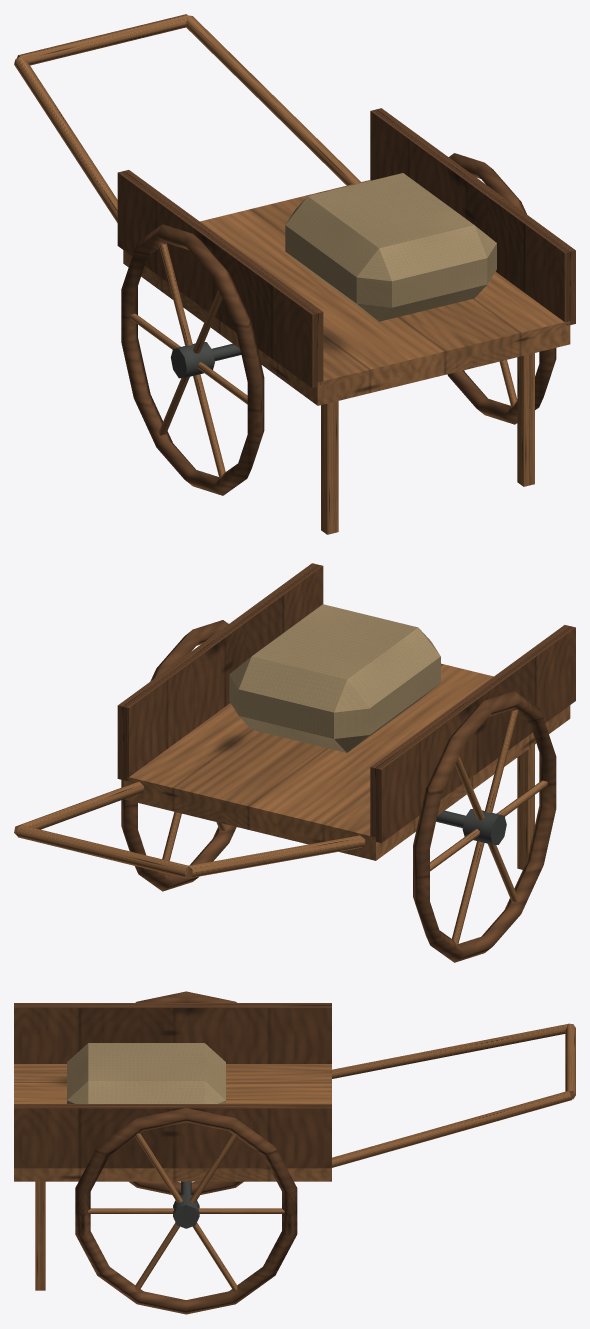
File: OB_Wozek_Reczny.fbx
3 views of the same model, one above another, from view 1: azimuth 30°, elevation 25°; view 2: azimuth 150°, elevation 25°; view 3: azimuth 270°, elevation 25° (orthographic). The views are drawn at different scales.
Parts seen in each view (by area): view 1: Wozek; view 2: Wozek; view 3: Wozek.
Boxes of the visible parts, x1=… form: Wozek: x1=14, y1=14, x2=575, y2=534; Wozek: x1=14, y1=563, x2=575, y2=962; Wozek: x1=14, y1=991, x2=575, y2=1314.
Bounding box in the file's own units: 1.14 × 0.86 × 2.12.
